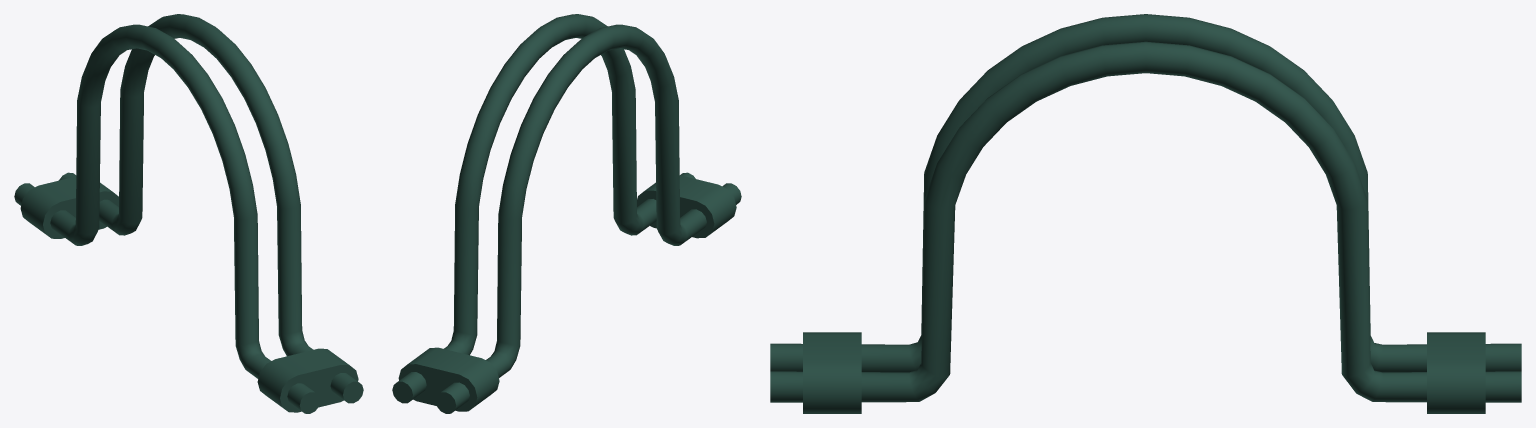
File: PipeHolder_Ring02_Large.fbx
The picture shows the model from 3 angles, left to right: view 1: azimuth 30°, elevation 25°; view 2: azimuth 150°, elevation 25°; view 3: azimuth 270°, elevation 25°; orthographic projection. The views are drawn at different scales.
Parts seen in each view (by area): view 1: PipeHolder_Ring02_Large.001; view 2: PipeHolder_Ring02_Large.001; view 3: PipeHolder_Ring02_Large.001.
Boxes of the visible parts, <box> form: PipeHolder_Ring02_Large.001: <box>14,14,363,413</box>; PipeHolder_Ring02_Large.001: <box>392,14,741,413</box>; PipeHolder_Ring02_Large.001: <box>770,14,1521,413</box>.
Bounding box in the file's own units: 0.065 × 0.221 × 0.4085.
